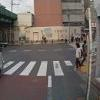crosswalks: (0, 60, 74, 77)
